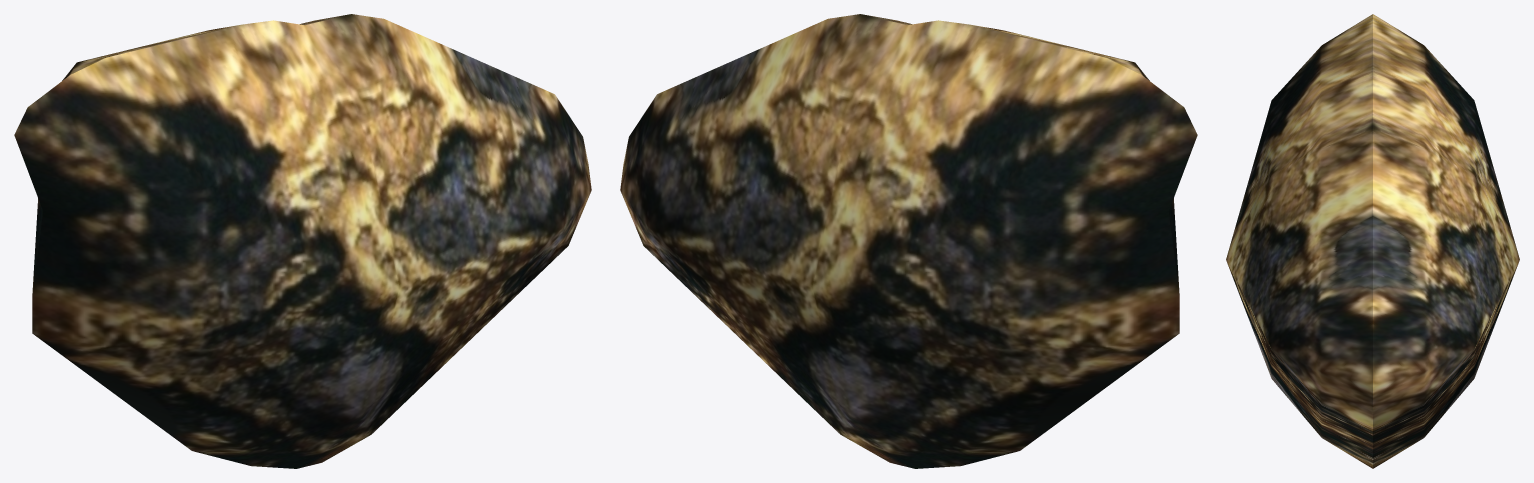
File: gold_asteroid.dae
The picture shows the model from 3 angles, left to right: view 1: azimuth 30°, elevation 25°; view 2: azimuth 150°, elevation 25°; view 3: azimuth 270°, elevation 25°; orthographic projection. The views are drawn at different scales.
Parts seen in each view (by area): view 1: Component (×2); view 2: Component (×2); view 3: Component (×2).
Boxes of the visible parts, x1=… form: Component (×2): x1=14, y1=14, x2=591, y2=468; Component (×2): x1=620, y1=14, x2=1197, y2=468; Component (×2): x1=1226, y1=14, x2=1519, y2=468.
Size of the model in its own units: 145 by 80.73 by 110.
1 material, 1 textured.
